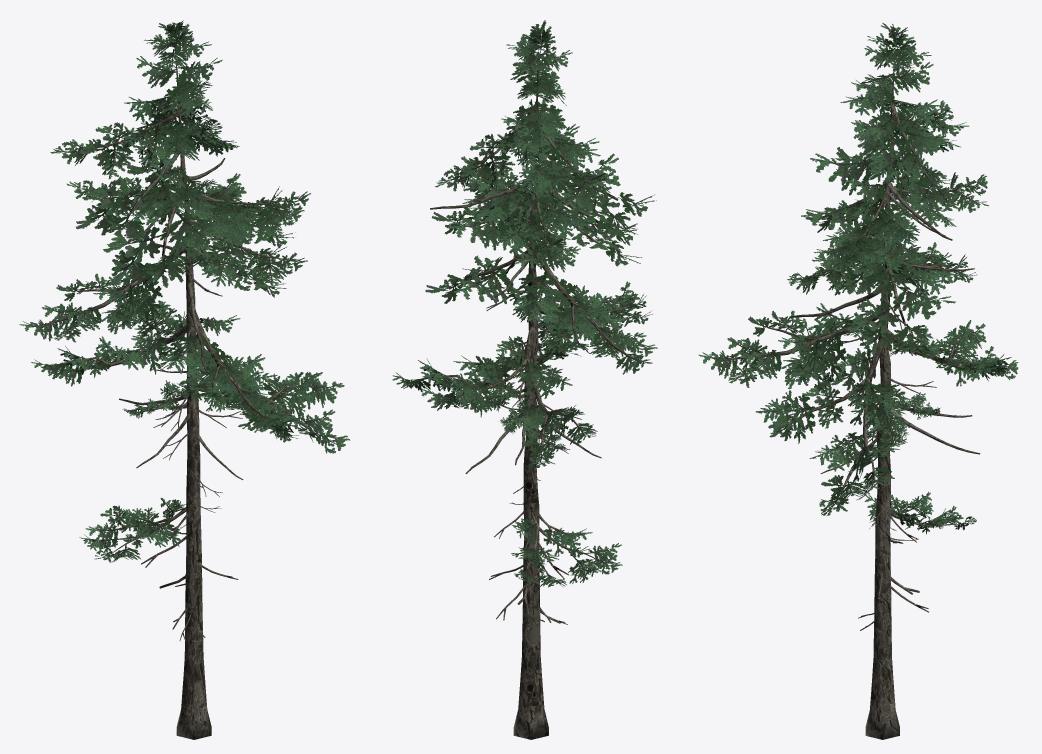
Rendered from Tree2-2-HalfLeaves.fbx.
3 renders of one model, left to right at view 1: azimuth 30°, elevation 25°; view 2: azimuth 150°, elevation 25°; view 3: azimuth 270°, elevation 25°, orthographic.
Parts seen in each view (by area): view 1: Tree2-2-HalfLeaves_LOD0; view 2: Tree2-2-HalfLeaves_LOD0; view 3: Tree2-2-HalfLeaves_LOD0.
Part boxes in pixels (x1,y1,x2,y2): Tree2-2-HalfLeaves_LOD0: (19,20,350,739); Tree2-2-HalfLeaves_LOD0: (392,20,657,739); Tree2-2-HalfLeaves_LOD0: (698,23,1018,739).
Size of what is drawn, in the model's own units: 3.74 by 3.69 by 8.65.
